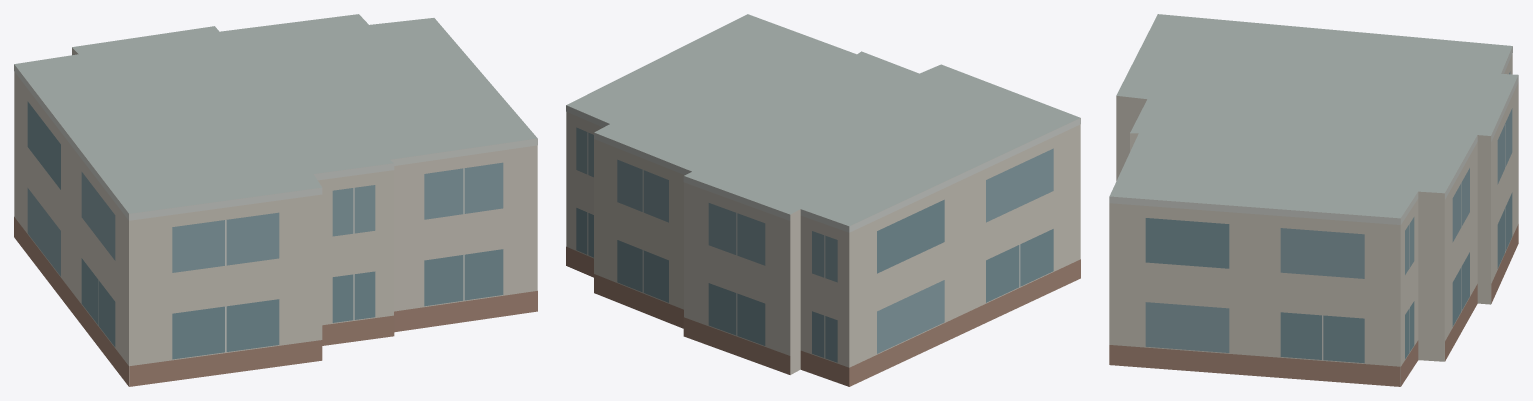
The model's file is survey-upis-32623879.glb.
The picture shows the model from 3 angles, left to right: view 1: azimuth 30°, elevation 25°; view 2: azimuth 150°, elevation 25°; view 3: azimuth 270°, elevation 25°; orthographic projection. The views are drawn at different scales.
Parts seen in each view (by area): view 1: survey-upis-32623879.tmp; view 2: survey-upis-32623879.tmp; view 3: survey-upis-32623879.tmp.
Part boxes in pixels (<box>): survey-upis-32623879.tmp: <box>14,14,537,386</box>; survey-upis-32623879.tmp: <box>566,14,1080,386</box>; survey-upis-32623879.tmp: <box>1109,14,1518,386</box>.
Size of the model in its own units: 15.87 by 6.1 by 13.43.
